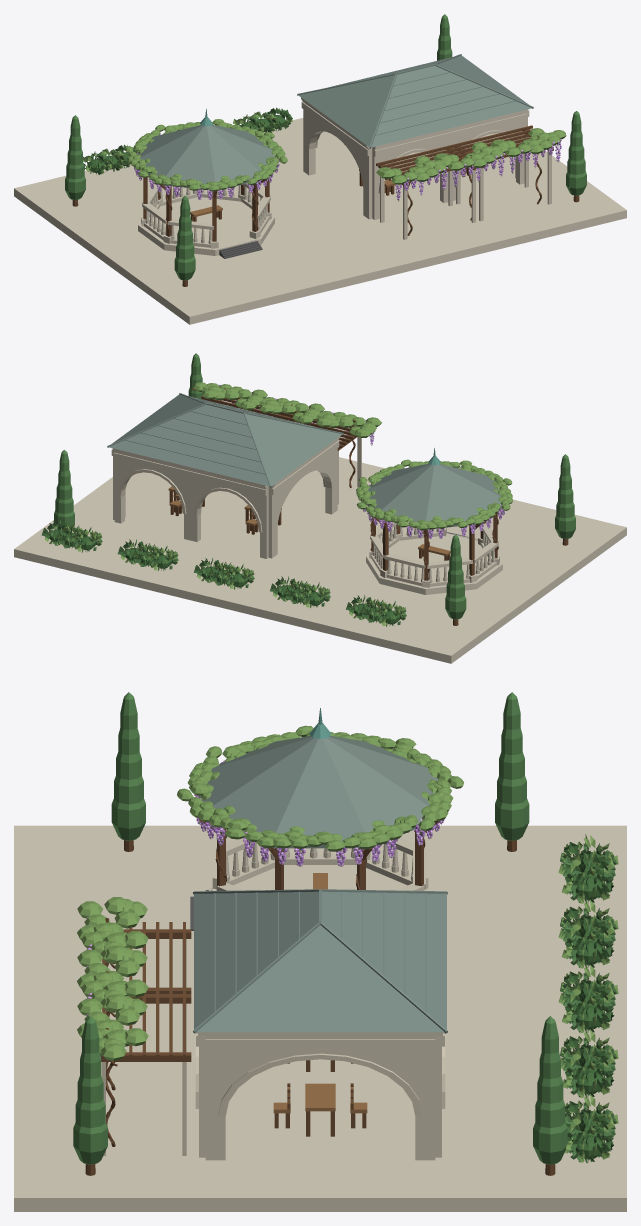
The model's file is C_assembly.glb.
The picture shows the model from 3 angles, top to bottom: view 1: azimuth 30°, elevation 25°; view 2: azimuth 150°, elevation 25°; view 3: azimuth 270°, elevation 25°; orthographic projection. The views are drawn at different scales.
Parts seen in each view (by area): view 1: Terrace garden terrace, Villa low hip roof.002, Octagonal gazebo floor, Open pavilion arcade.004, Villa pergola bay, Villa pergola bay.001, Gazebo roof wedge.004, Gazebo roof wedge.005, Slender cypress.006, Slender cypress.004, Slender cypress.005, Open pavilion arcade (+19 smaller); view 2: Terrace garden terrace, Villa low hip roof.002, Octagonal gazebo floor, Open pavilion arcade.001, Open pavilion arcade.004, Open pavilion arcade.003, Gazebo roof wedge.002, Gazebo roof wedge.001, Slender cypress.005, Slender cypress.004, Hedge straight, Hedge straight.002 (+20 smaller); view 3: Terrace garden terrace, Villa low hip roof.002, Open pavilion arcade.005, Gazebo roof wedge.007, Pavilion entablature beam.005, Gazebo roof wedge, Gazebo roof wedge.006, Slender cypress.006, Slender cypress.007, Slender cypress.004, Slender cypress.005, Wisteria foliage canopy (+26 smaller).
Part boxes in pixels (x1,y1,x2,y2): Terrace garden terrace: (14, 118, 626, 324); Villa low hip roof.002: (297, 54, 533, 148); Octagonal gazebo floor: (138, 197, 274, 255); Open pavilion arcade.004: (303, 109, 372, 219); Villa pergola bay: (376, 144, 476, 239); Villa pergola bay.001: (453, 125, 555, 221); Gazebo roof wedge.004: (160, 126, 214, 189); Gazebo roof wedge.005: (207, 126, 260, 192); Slender cypress.006: (566, 111, 586, 202); Slender cypress.004: (174, 195, 195, 286); Slender cypress.005: (65, 115, 85, 206); Open pavilion arcade: (372, 139, 450, 219); Terrace garden terrace: (14, 457, 626, 663); Villa low hip roof.002: (107, 393, 343, 487); Octagonal gazebo floor: (366, 532, 502, 594); Open pavilion arcade.001: (190, 478, 268, 558); Open pavilion arcade.004: (268, 448, 337, 558); Open pavilion arcade.003: (114, 459, 190, 540); Gazebo roof wedge.002: (424, 465, 474, 531); Gazebo roof wedge.001: (375, 465, 433, 527); Slender cypress.005: (445, 534, 466, 625); Slender cypress.004: (555, 454, 575, 545); Hedge straight: (346, 594, 406, 626); Hedge straight.002: (194, 558, 254, 589); Terrace garden terrace: (14, 825, 626, 1211); Villa low hip roof.002: (193, 889, 447, 1033); Open pavilion arcade.005: (205, 1050, 435, 1160); Gazebo roof wedge.007: (268, 738, 364, 850); Pavilion entablature beam.005: (205, 1032, 435, 1050); Gazebo roof wedge: (323, 738, 427, 850); Gazebo roof wedge.006: (201, 738, 317, 833); Slender cypress.006: (73, 1016, 107, 1175); Slender cypress.007: (533, 1016, 567, 1175); Slender cypress.004: (111, 692, 145, 851); Slender cypress.005: (495, 692, 529, 851); Wisteria foliage canopy: (77, 897, 148, 964).
Bounding box in the file's own units: 23 × 6.35 × 16.
